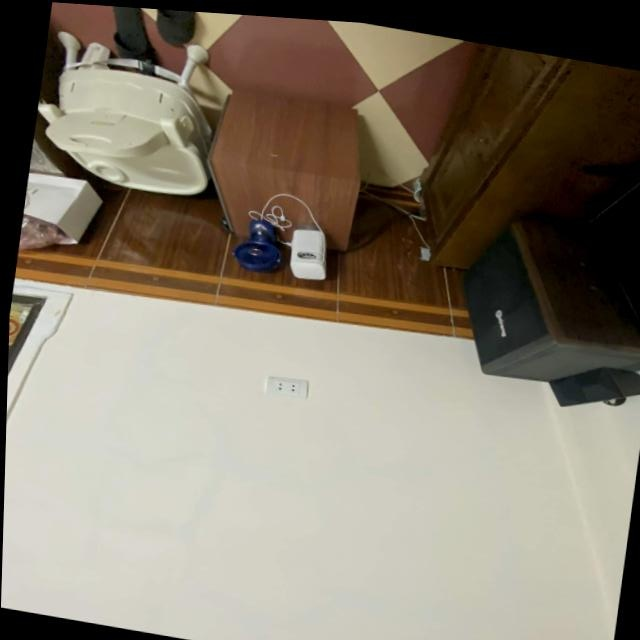outlet: (264, 375, 308, 402)
